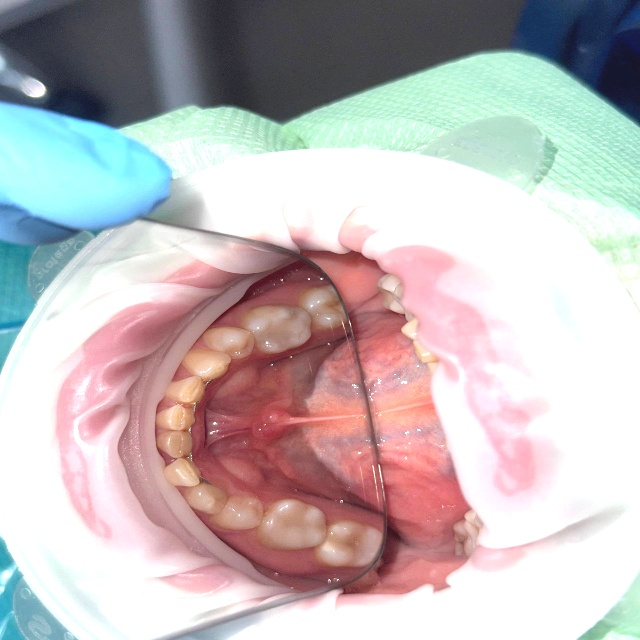clean_tooth: (117, 229, 198, 284)
plaque: (0, 43, 168, 242), (512, 0, 594, 58), (146, 31, 186, 111), (0, 0, 69, 29)
